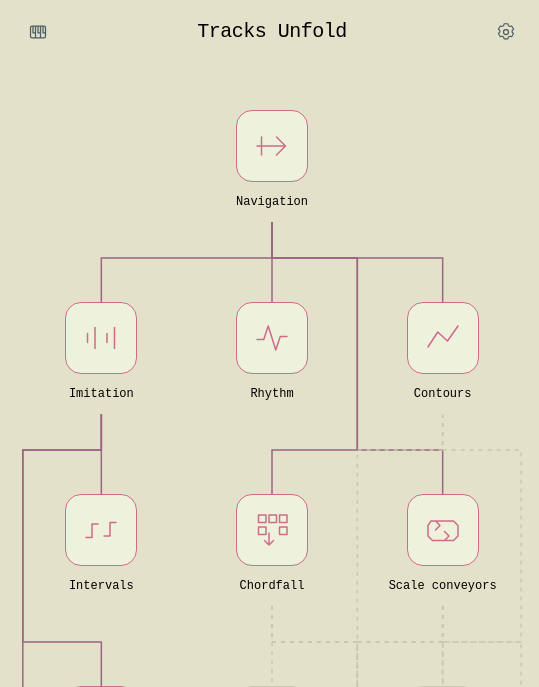
it: App › migrates both saved profiles and retains earned access after proficiency falls and reloads
The width and height of the screenshot is (539, 687).
Click the button "Imitation" at (101, 358), box [16, 302, 187, 414]
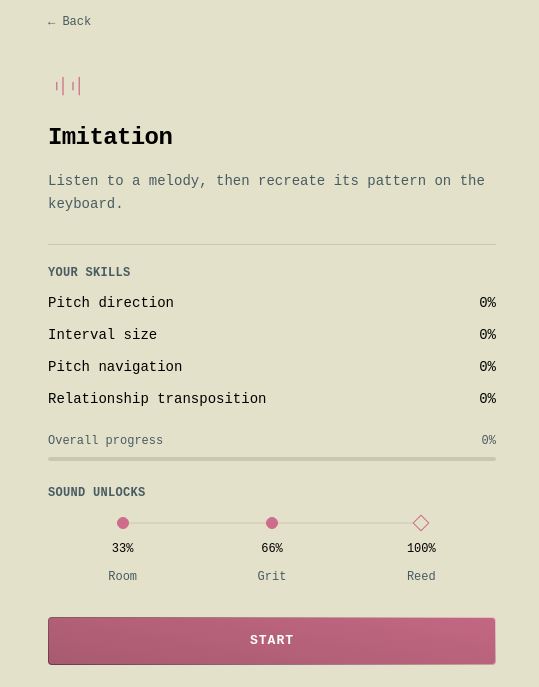
Now the button "Start" is enabled, box [48, 616, 496, 664]
